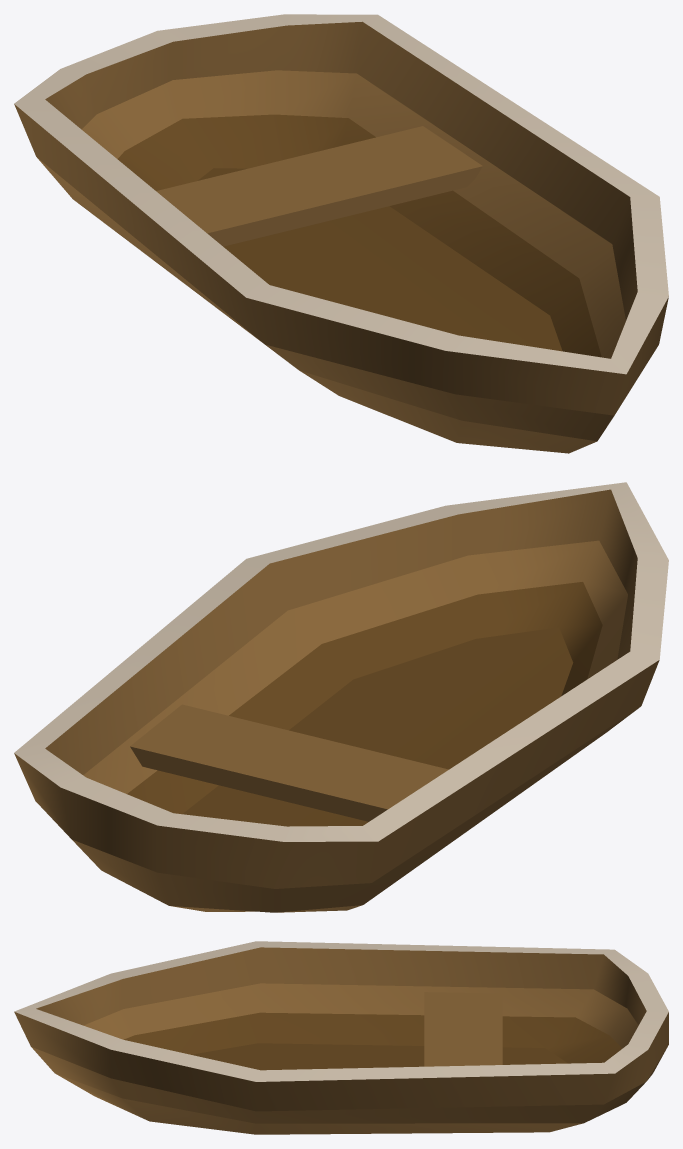
The model's file is SM_Boat_01.fbx.
3 renders of one model, top to bottom at view 1: azimuth 30°, elevation 25°; view 2: azimuth 150°, elevation 25°; view 3: azimuth 270°, elevation 25°, orthographic. The views are drawn at different scales.
Parts seen in each view (by area): view 1: barca; view 2: barca; view 3: barca.
Part boxes in pixels (box(x1,y1,x2,y2)): barca: box(14, 14, 668, 453); barca: box(14, 482, 668, 912); barca: box(14, 941, 668, 1134).
Bounding box in the file's own units: 173 × 50.66 × 339.
